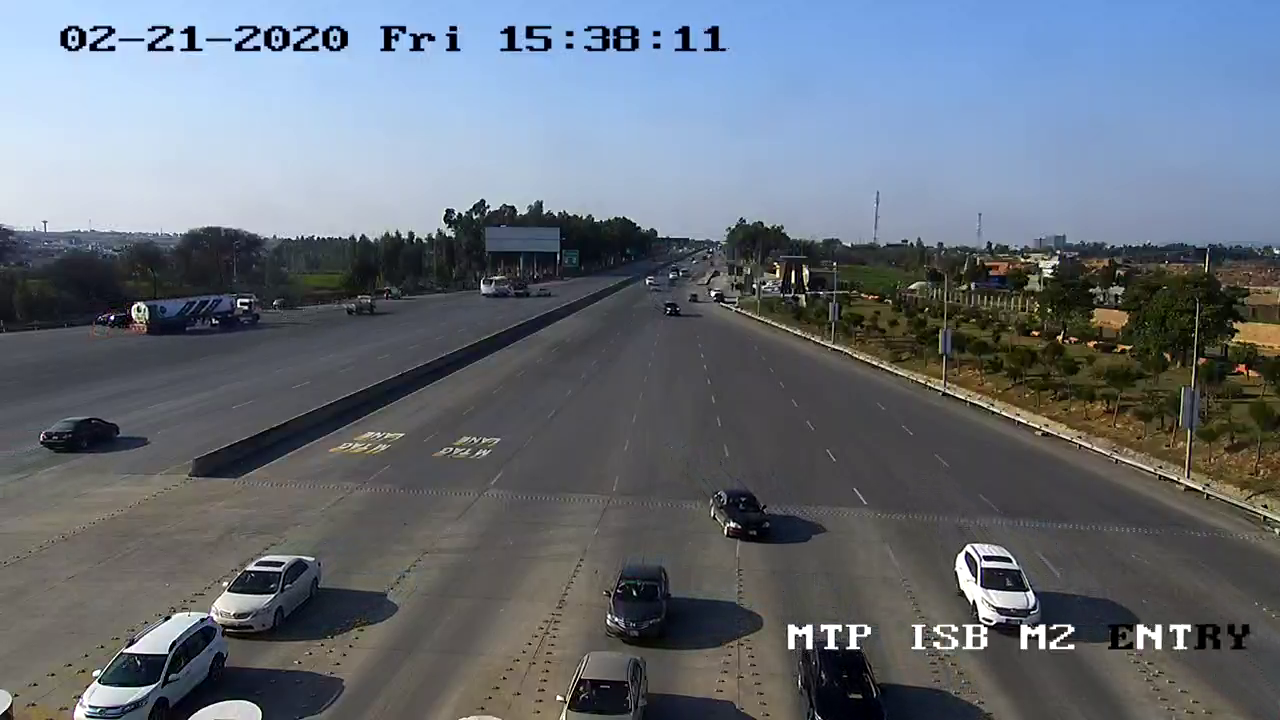f1: (57, 604, 237, 720), (197, 535, 328, 644), (946, 529, 1054, 634), (597, 554, 686, 654), (695, 478, 785, 549)
